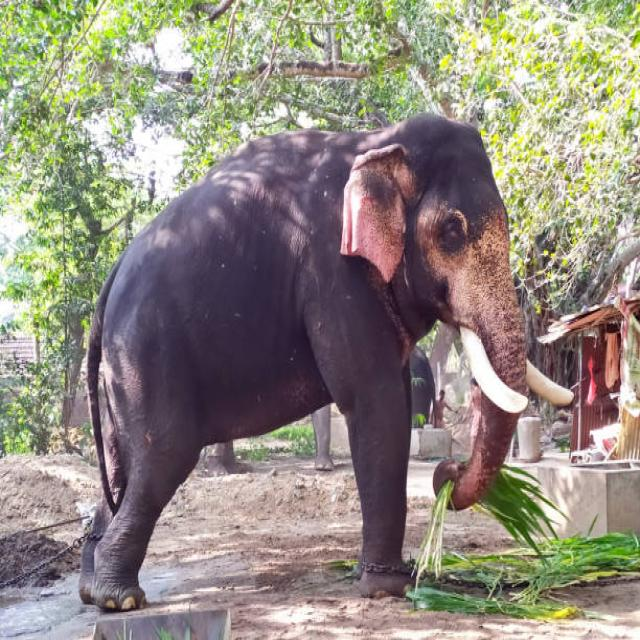Elephant: (83, 108, 541, 604)
